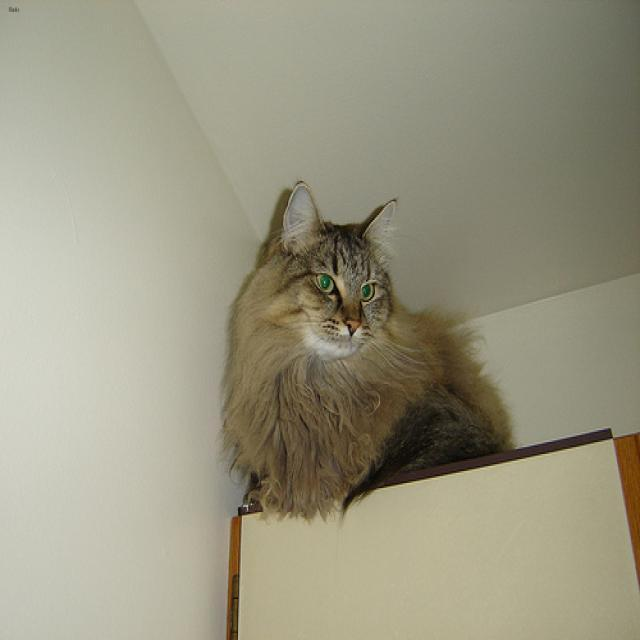Maine_Coon: (281, 181, 395, 355)
